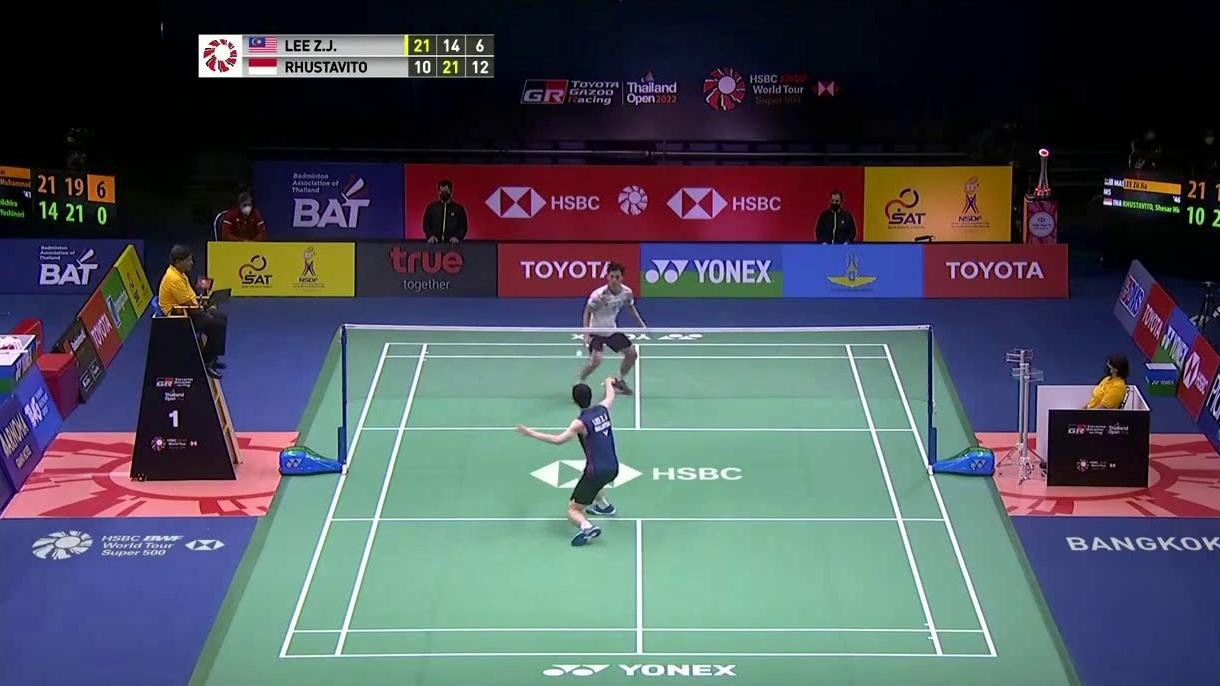racket: (567, 379, 616, 402), (584, 340, 598, 367)
shuttle: (574, 348, 584, 359)
